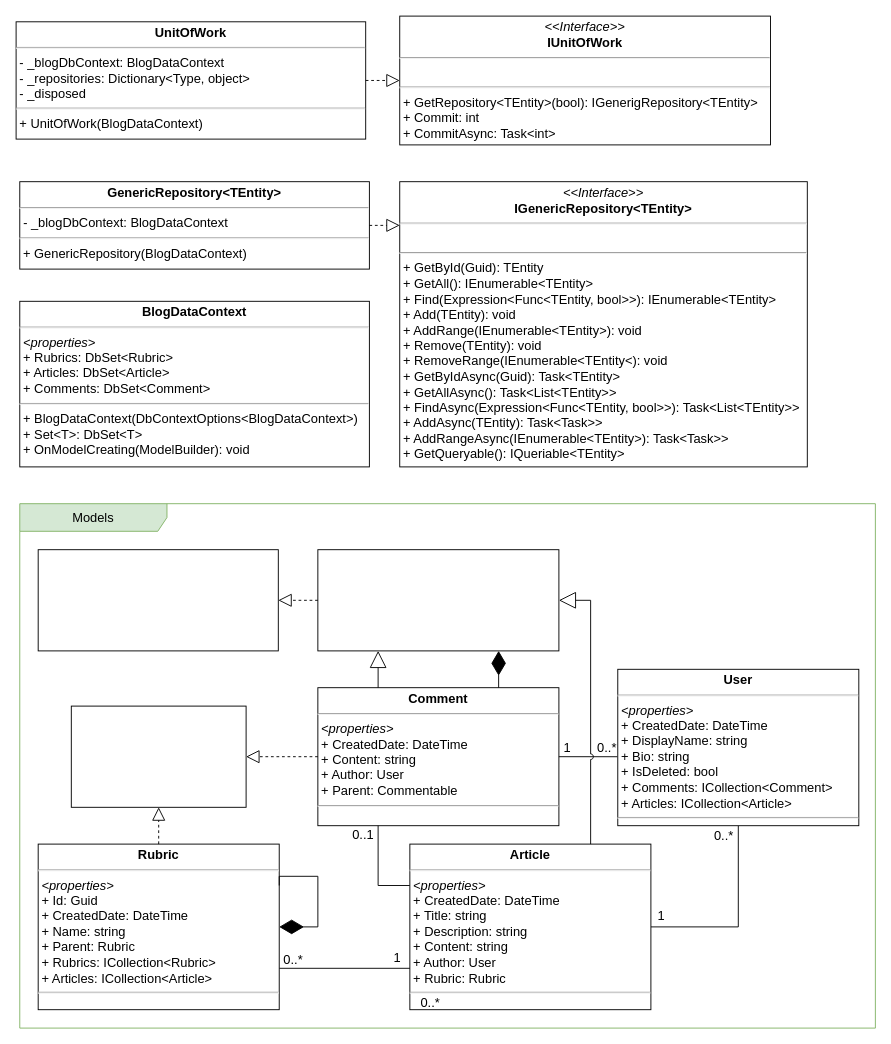
Image size: 891x1044. Some labels were removed from this diagram. Here are the shapes that lost their labels. From the top down, the centre of each, then its label:
(157,600): <<Interface>> ICommentable <properties> + Comments: ICollection<Comments>
(438,600): Commentable <properties> + Id: Guid + Comments: ICollection<CommentDto>
(158,756): <<Interface>> IHierarchical<T> <properties> + Parent: T
